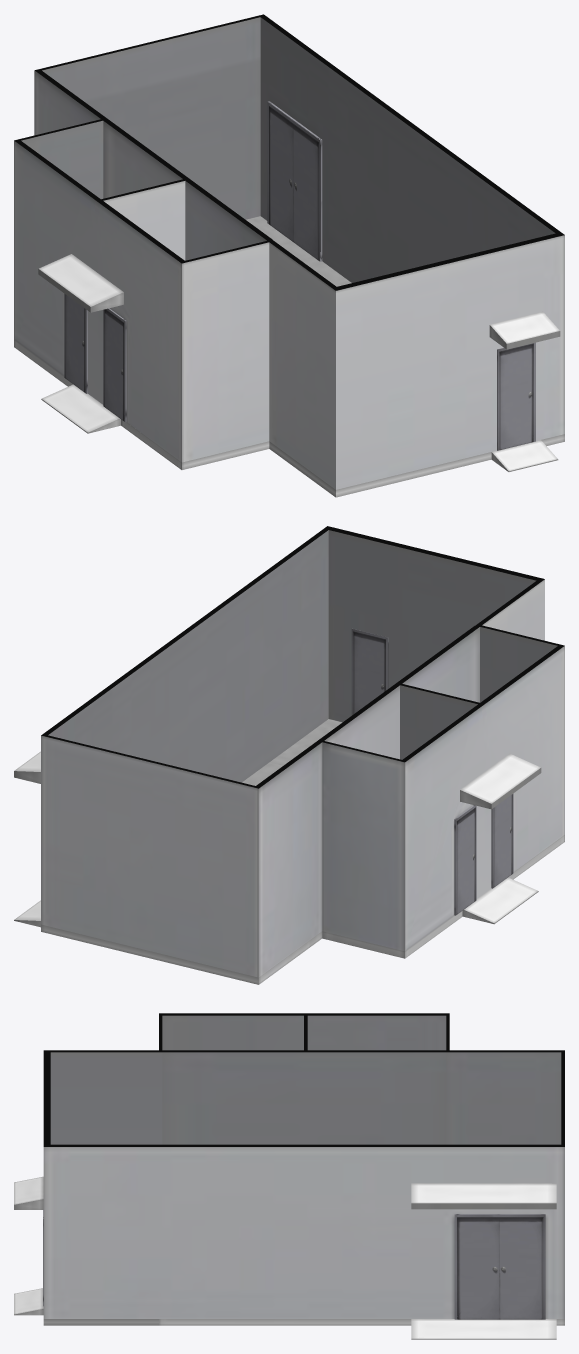
The model's file is soulbrain_T8-waste_2.glb.
3 views of the same model, one above another, from view 1: azimuth 30°, elevation 25°; view 2: azimuth 150°, elevation 25°; view 3: azimuth 270°, elevation 25° (orthographic). The views are drawn at different scales.
Parts seen in each view (by area): view 1: Box032, Box033, T8-liquidwaste; view 2: Box032, T8-liquidwaste, Box033; view 3: Box032, T8-liquidwaste, Box033.
Boxes of the visible parts, x1,y1,x2,y2 form: Box032: [14, 14, 564, 489]; Box033: [64, 101, 535, 450]; T8-liquidwaste: [14, 216, 564, 497]; Box032: [41, 526, 564, 977]; T8-liquidwaste: [14, 719, 564, 984]; Box033: [351, 628, 513, 915]; Box032: [43, 1013, 564, 1318]; T8-liquidwaste: [14, 1176, 564, 1339]; Box033: [43, 1210, 545, 1319].
Bounding box in the file's own units: 16.62 × 8.57 × 23.94.
Materials: 4 (3 with a texture image).
